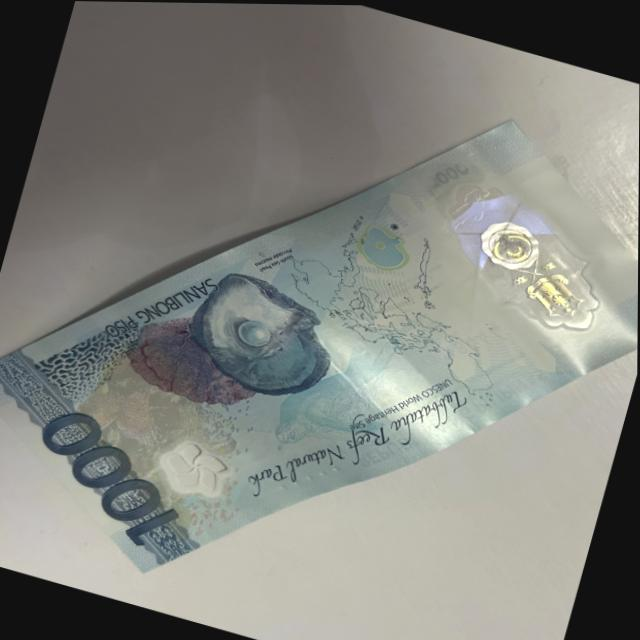clear_window: (409, 161, 639, 357)
sampaguita: (147, 430, 242, 509)
value: (14, 392, 203, 566)
